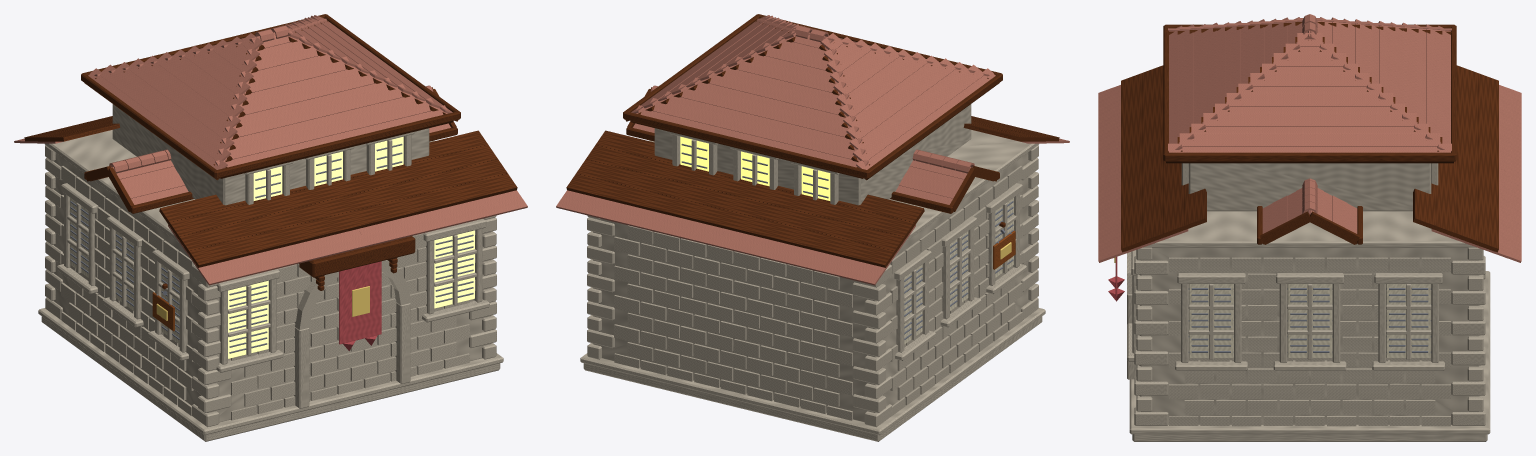
The model's file is fantasy-mmo-city-and-townsfolk-auction-house-39ab43f6__32742.glb.
3 views of the same model, side by side, from view 1: azimuth 30°, elevation 25°; view 2: azimuth 150°, elevation 25°; view 3: azimuth 270°, elevation 25° (orthographic). The views are drawn at different scales.
Parts seen in each view (by area): view 1: auction-house, banner/red, banner/gold; view 2: auction-house; view 3: auction-house.
Part boxes in pixels (x1,y1,x2,y2): auction-house: [14, 14, 527, 441]; banner/red: [339, 261, 381, 350]; banner/gold: [352, 286, 369, 316]; auction-house: [556, 14, 1069, 441]; auction-house: [1098, 14, 1521, 441].
Size of the model in its own units: 10.74 by 10 by 11.15.
9 materials, 6 textured.
